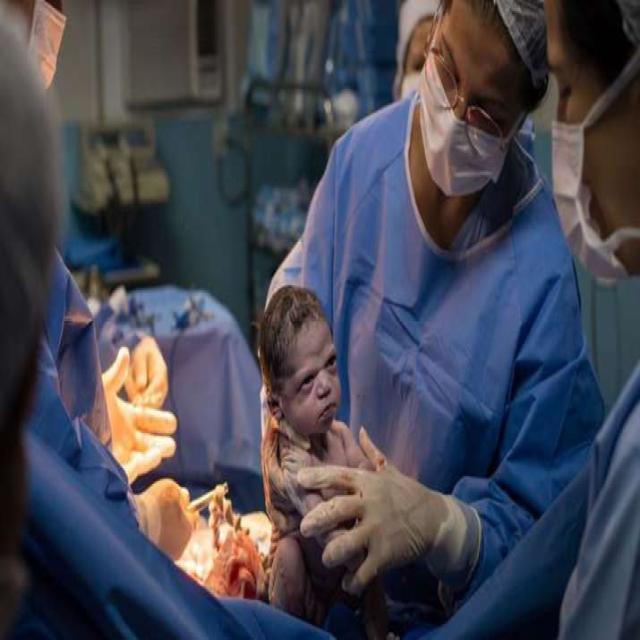non-dog: (260, 0, 604, 637), (0, 0, 255, 639), (251, 283, 401, 640), (545, 0, 640, 292), (390, 0, 451, 110)
